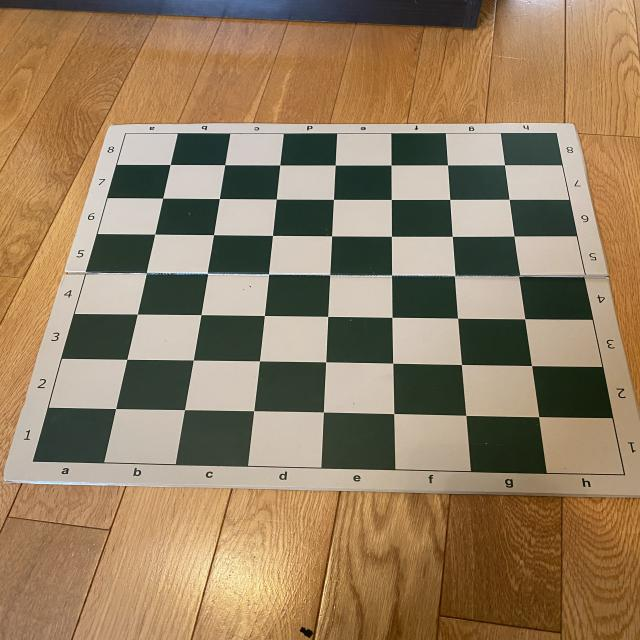Chessboard-Corners: (28, 455, 38, 468), (618, 469, 631, 479), (549, 129, 562, 138), (120, 129, 131, 138)
